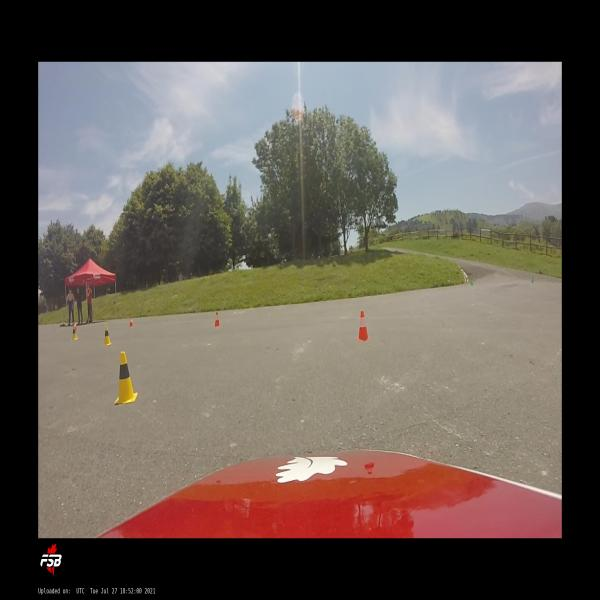orange_cone: (356, 310, 371, 341), (71, 325, 79, 341), (214, 311, 221, 327), (129, 316, 134, 327), (73, 321, 78, 330)
yellow_cone: (114, 352, 138, 404), (103, 325, 112, 346), (71, 325, 79, 341)
